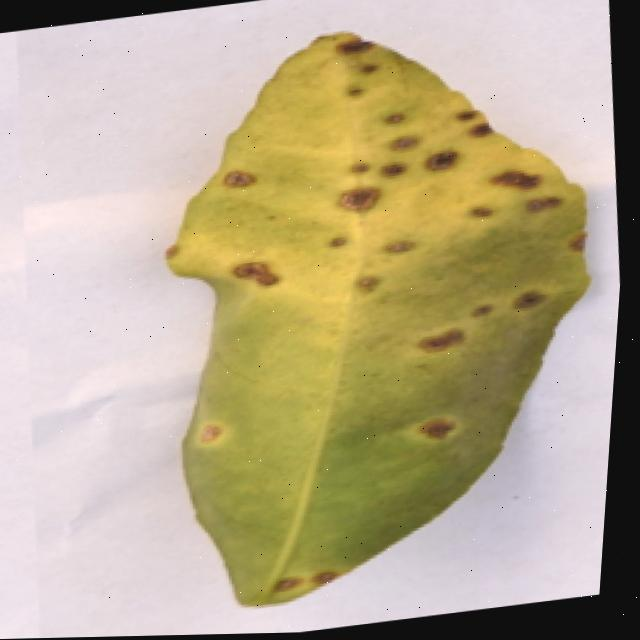canker: (169, 32, 589, 603), (293, 0, 615, 389), (408, 394, 471, 459), (259, 561, 343, 602), (223, 244, 286, 297), (184, 400, 236, 457), (222, 150, 263, 200)
